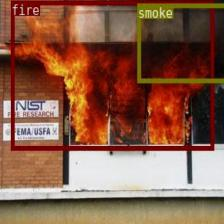fire: (10, 0, 213, 149)
smoke: (136, 3, 224, 82)
